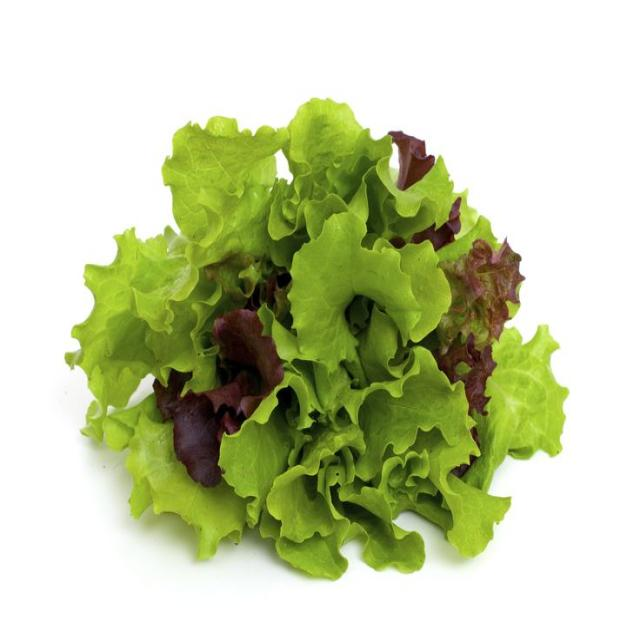lettuce: (67, 100, 566, 578)
